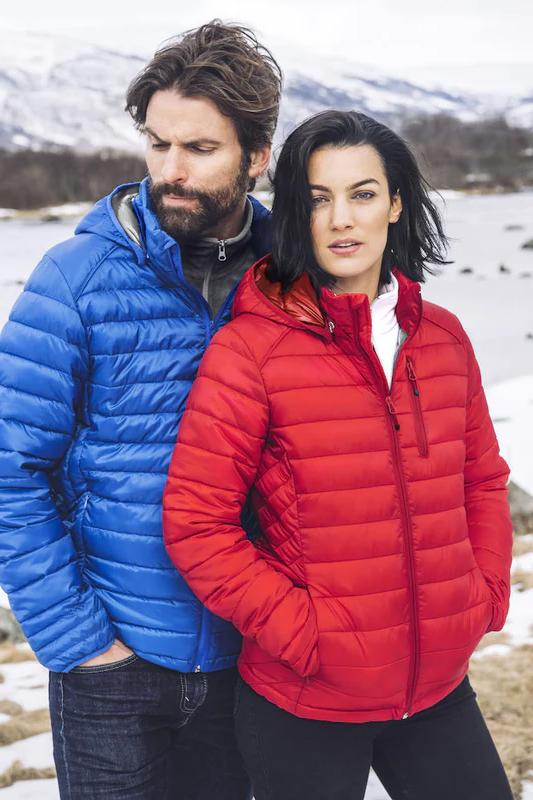coat: (159, 248, 512, 725), (0, 171, 286, 679)
trousers: (230, 667, 516, 800), (45, 655, 261, 800)
